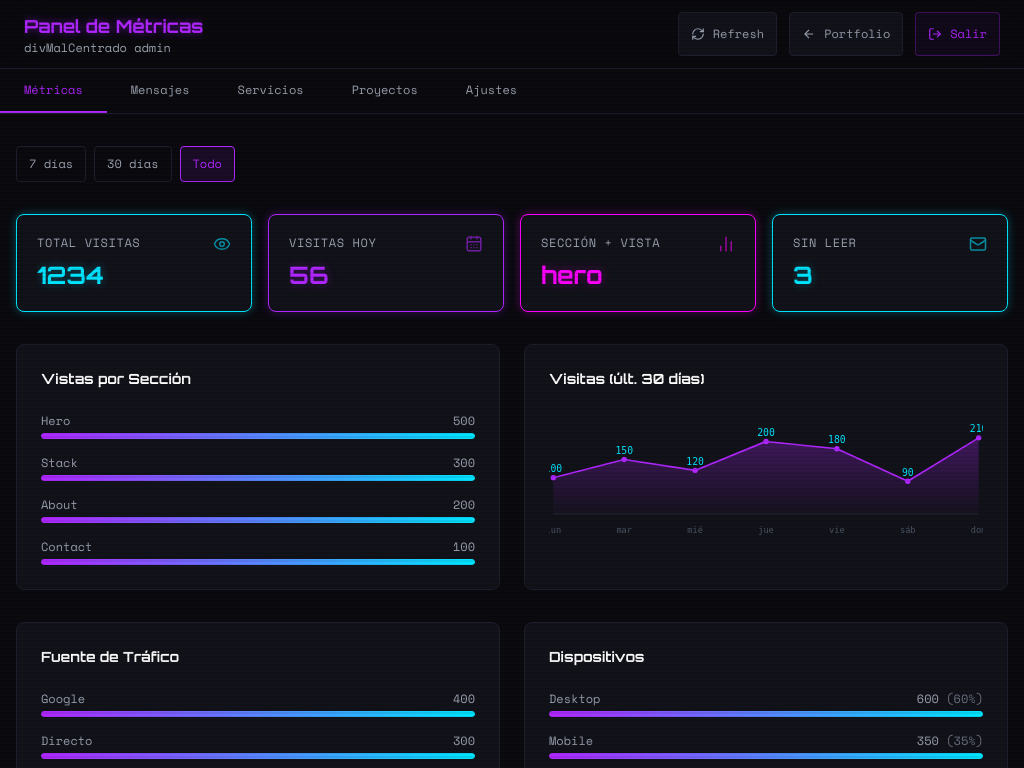
it: Dashboard Component › switches to Ajustes tab on click
This screenshot has width=1024, height=768.
Click the button "Ajustes". click: point(492, 91)
box: [442,69,541,113]
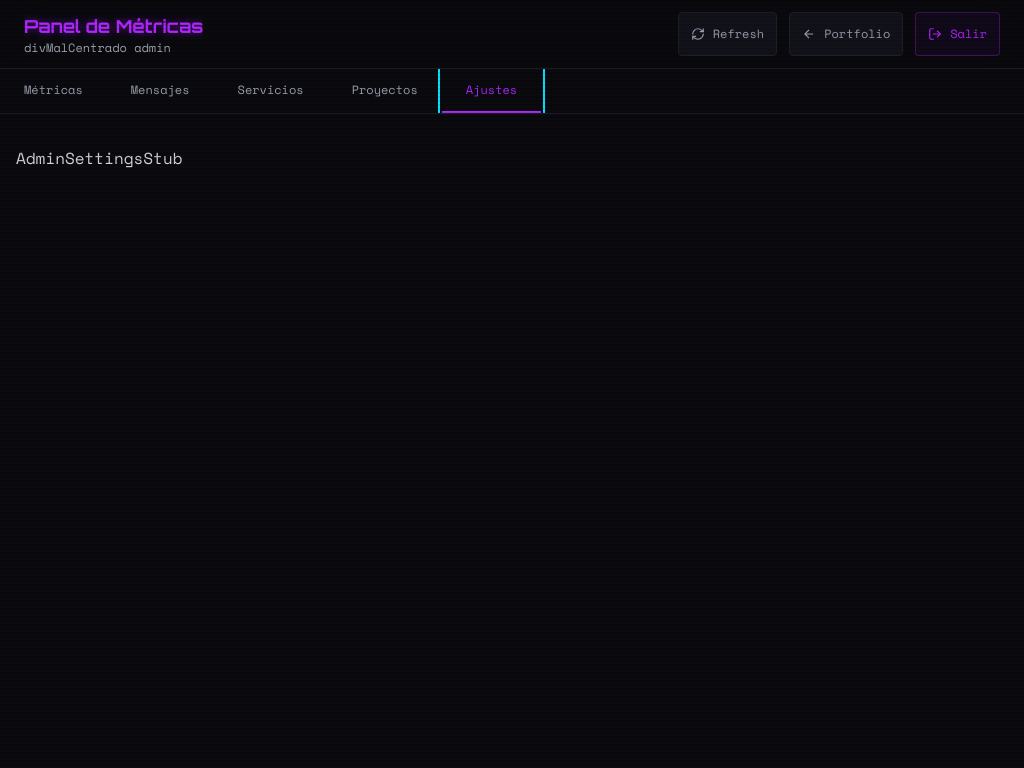
Now the text "AdminSettingsStub" is shown, box [16,146,182,170]
